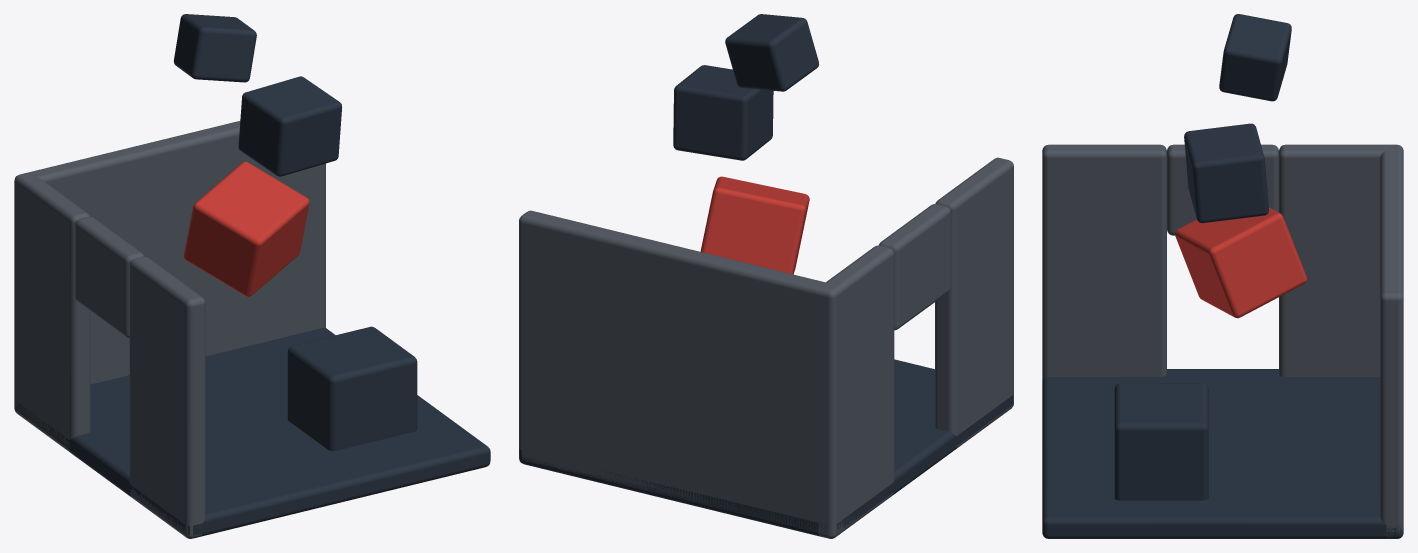
Rendered from room.glb.
3 renders of one model, left to right at view 1: azimuth 30°, elevation 25°; view 2: azimuth 150°, elevation 25°; view 3: azimuth 270°, elevation 25°, orthographic. The views are drawn at different scales.
Visible parts, largest first — view 1: floor, wallB, wallL0, wallL1, left0, up0, up1, lintel, up2; view 2: wallB, wallL1, wallL0, floor, up0, up1, lintel, up2; view 3: floor, wallL0, wallL1, left0, up0, wallB, up1, up2, lintel.
Part boxes in pixels (<box>): floor: <box>15,327,490,538</box>; wallB: <box>15,121,325,406</box>; wallL0: <box>129,256,205,538</box>; wallL1: <box>14,172,90,452</box>; left0: <box>287,326,417,450</box>; up0: <box>184,161,309,296</box>; up1: <box>238,76,342,176</box>; lintel: <box>75,216,144,338</box>; up2: <box>173,14,256,82</box>; wallB: <box>519,210,841,533</box>; wallL1: <box>818,245,894,538</box>; wallL0: <box>935,157,1013,449</box>; floor: <box>519,359,1013,538</box>; up0: <box>700,176,809,274</box>; up1: <box>673,65,773,160</box>; lintel: <box>878,204,950,330</box>; up2: <box>725,14,818,91</box>; floor: <box>1042,369,1403,538</box>; wallL0: <box>1042,144,1166,379</box>; wallL1: <box>1279,144,1403,376</box>; left0: <box>1114,383,1208,500</box>; up0: <box>1175,207,1306,318</box>; wallB: <box>1380,150,1403,538</box>; up1: <box>1184,123,1268,223</box>; up2: <box>1219,14,1291,101</box>; lintel: <box>1167,144,1278,235</box>.
Bounding box in the file's own units: 2 × 2.62 × 2.
